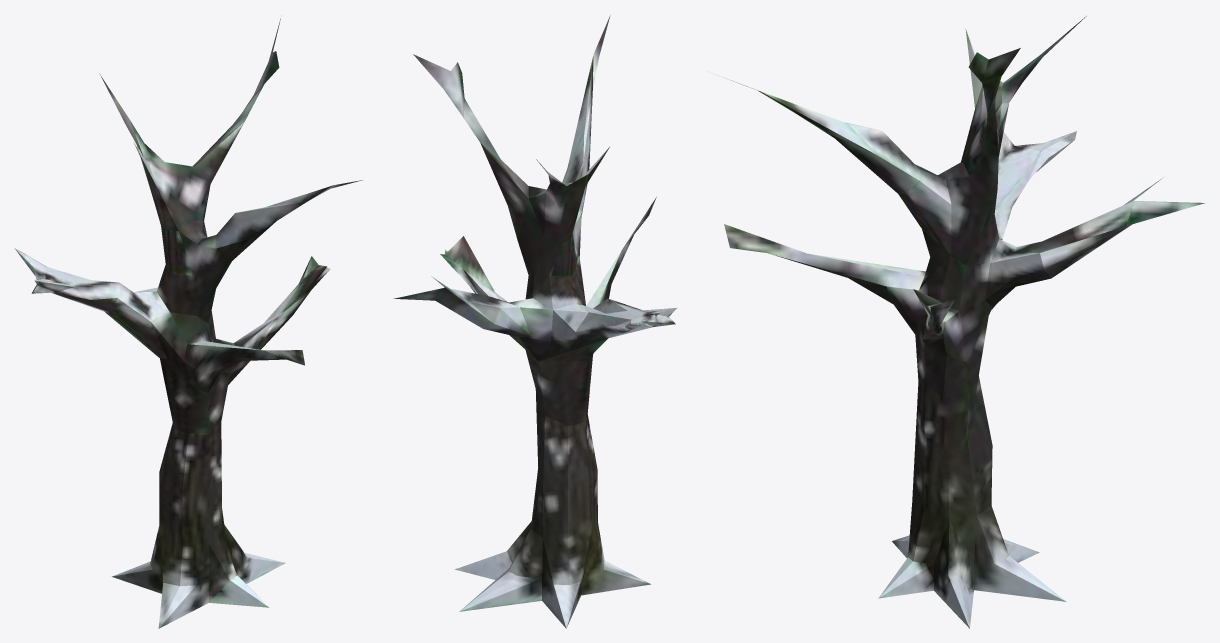
The model's file is world-tree-winter.glb.
3 views of the same model, side by side, from view 1: azimuth 30°, elevation 25°; view 2: azimuth 150°, elevation 25°; view 3: azimuth 270°, elevation 25° (orthographic). The views are drawn at different scales.
Parts seen in each view (by area): view 1: output_unwrapped; view 2: output_unwrapped; view 3: output_unwrapped.
Part boxes in pixels (bbox=[...]): output_unwrapped: bbox=[14, 18, 362, 628]; output_unwrapped: bbox=[393, 15, 677, 628]; output_unwrapped: bbox=[724, 16, 1204, 628].
Size of the model in its own units: 1.73 by 3.3 by 2.52.
1 material, 1 textured.
